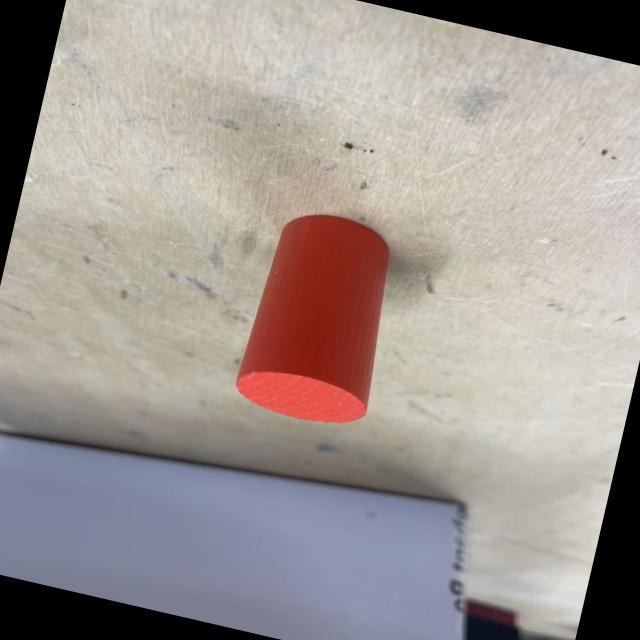red_cylinder: (228, 200, 409, 434)
